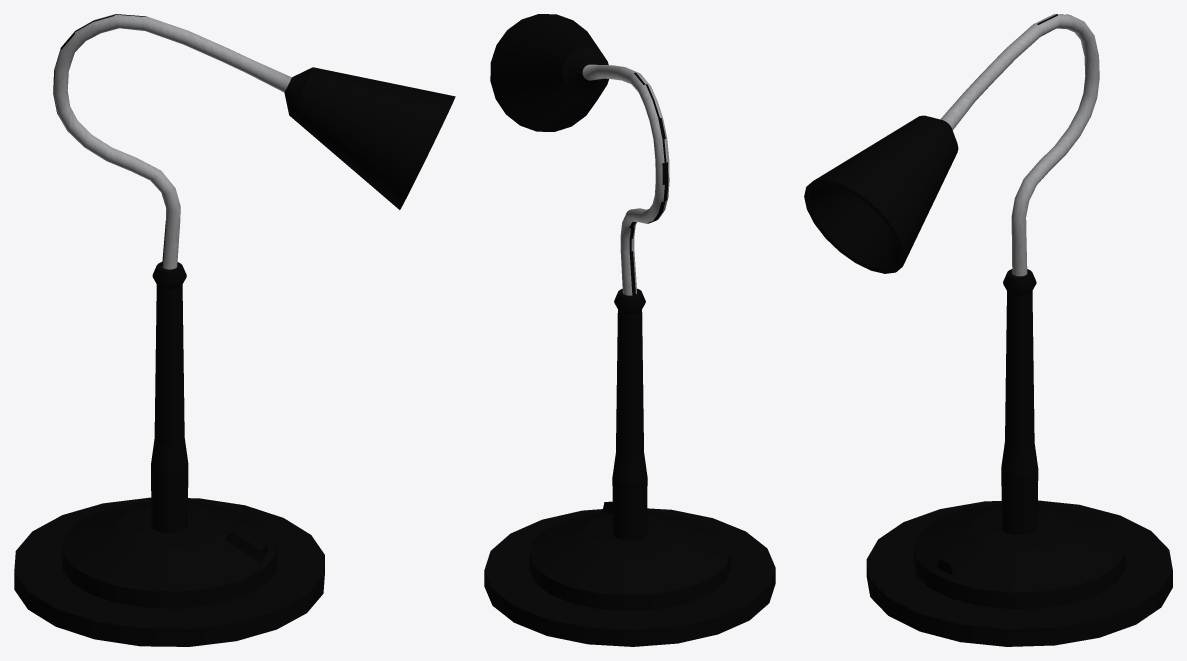
Rendered from table_lamp.glb.
The picture shows the model from 3 angles, left to right: view 1: azimuth 30°, elevation 25°; view 2: azimuth 150°, elevation 25°; view 3: azimuth 270°, elevation 25°; orthographic projection. The views are drawn at different scales.
Parts seen in each view (by area): view 1: pCylinder39; view 2: pCylinder39; view 3: pCylinder39.
Part boxes in pixels (x1=…): pCylinder39: x1=14, y1=14, x2=455, y2=646; pCylinder39: x1=484, y1=14, x2=775, y2=646; pCylinder39: x1=804, y1=14, x2=1172, y2=646.
Size of the model in its own units: 0.3613 by 0.556 by 0.3373.
1 material, 1 textured.
